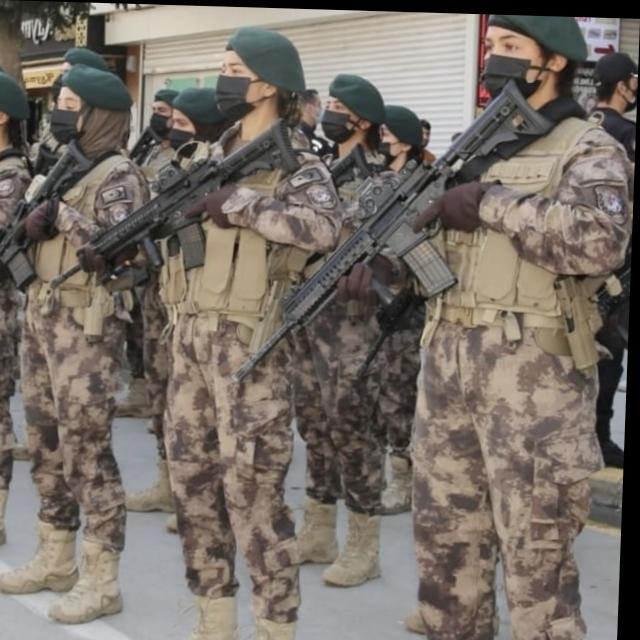poh_personel: (407, 10, 639, 640), (156, 21, 348, 640), (0, 61, 157, 626)
